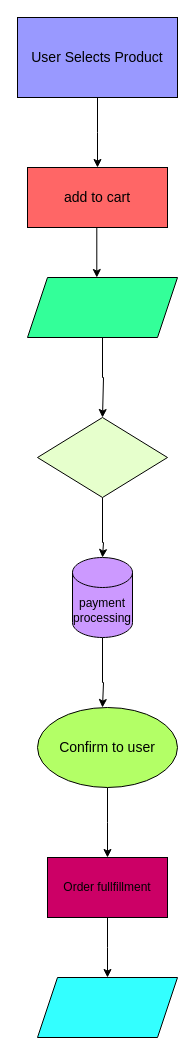
Image size: 195x1055. Some labels were removed from this diagram. The box of each missing label's shape, as (x1, y1, x2, y2) in pixels:
Enters payment info: (26, 276, 178, 338)
payment gatway information: (36, 416, 168, 498)
